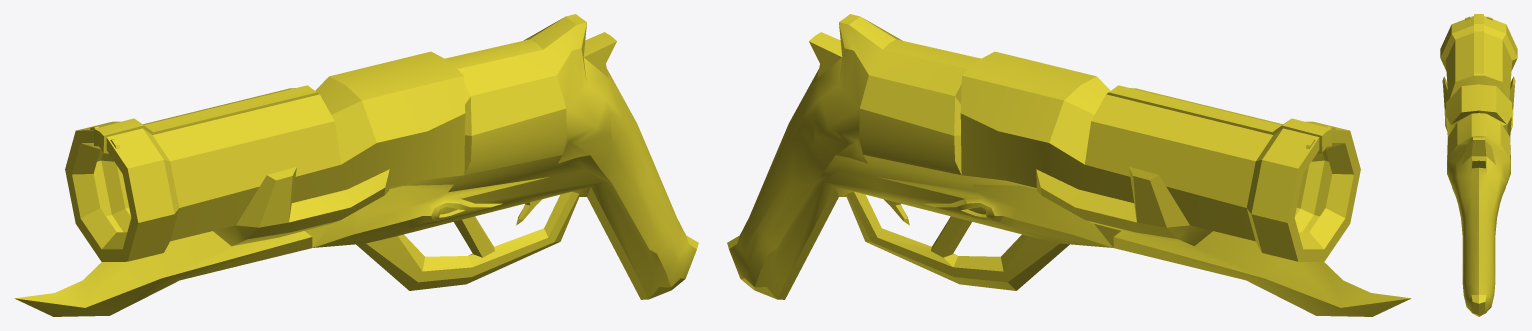
Rendered from Gun_low.FBX.
3 renders of one model, left to right at view 1: azimuth 30°, elevation 25°; view 2: azimuth 150°, elevation 25°; view 3: azimuth 270°, elevation 25°, orthographic. The views are drawn at different scales.
Visible parts, largest first — view 1: GreatGunLow; view 2: GreatGunLow; view 3: GreatGunLow.
Boxes of the visible parts, x1=… form: GreatGunLow: x1=14, y1=14, x2=698, y2=316; GreatGunLow: x1=727, y1=14, x2=1411, y2=316; GreatGunLow: x1=1440, y1=14, x2=1517, y2=316.
Bounding box in the file's own units: 127 × 53.06 × 23.45.
